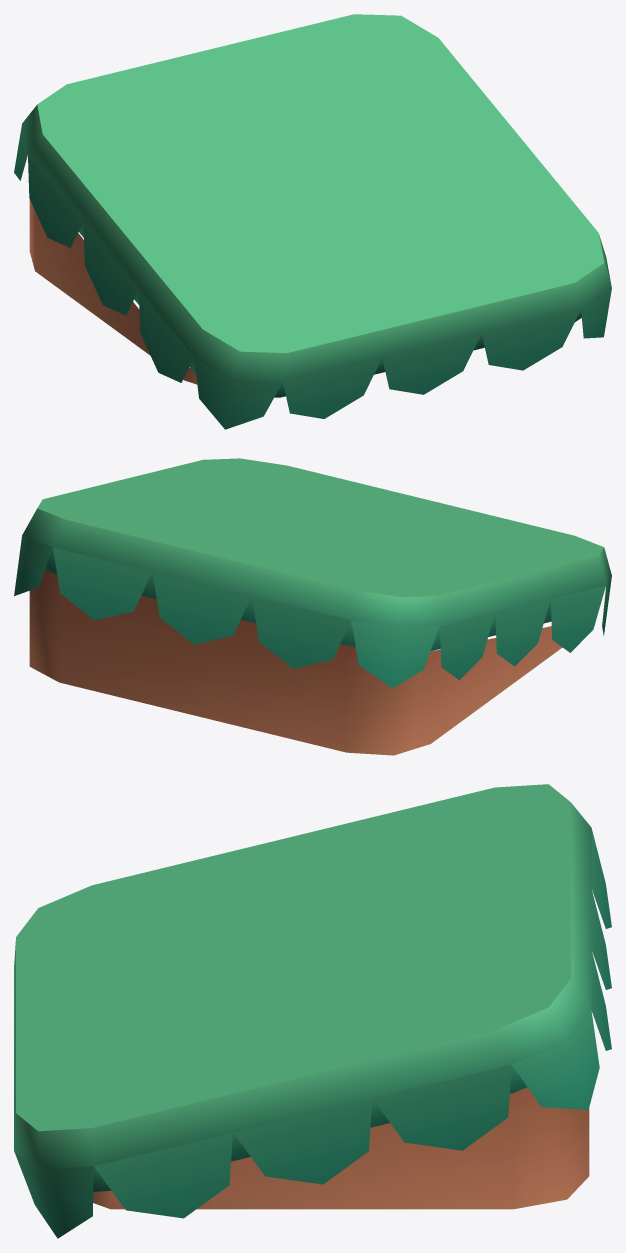
Rendered from kenney-platformer-block-grass-overhang-large-slope.glb.
3 renders of one model, top to bottom at view 1: azimuth 30°, elevation 25°; view 2: azimuth 150°, elevation 25°; view 3: azimuth 270°, elevation 25°, orthographic. The views are drawn at different scales.
Parts seen in each view (by area): view 1: block-grass-overhang-large-slope; view 2: block-grass-overhang-large-slope; view 3: block-grass-overhang-large-slope.
Part boxes in pixels (left/top/right/bottom): block-grass-overhang-large-slope: left=14, top=14, right=611, bottom=429; block-grass-overhang-large-slope: left=14, top=458, right=611, bottom=755; block-grass-overhang-large-slope: left=14, top=784, right=611, bottom=1238.
Size of the model in its own units: 2.08 by 0.9144 by 2.08.
1 material, 1 textured.
